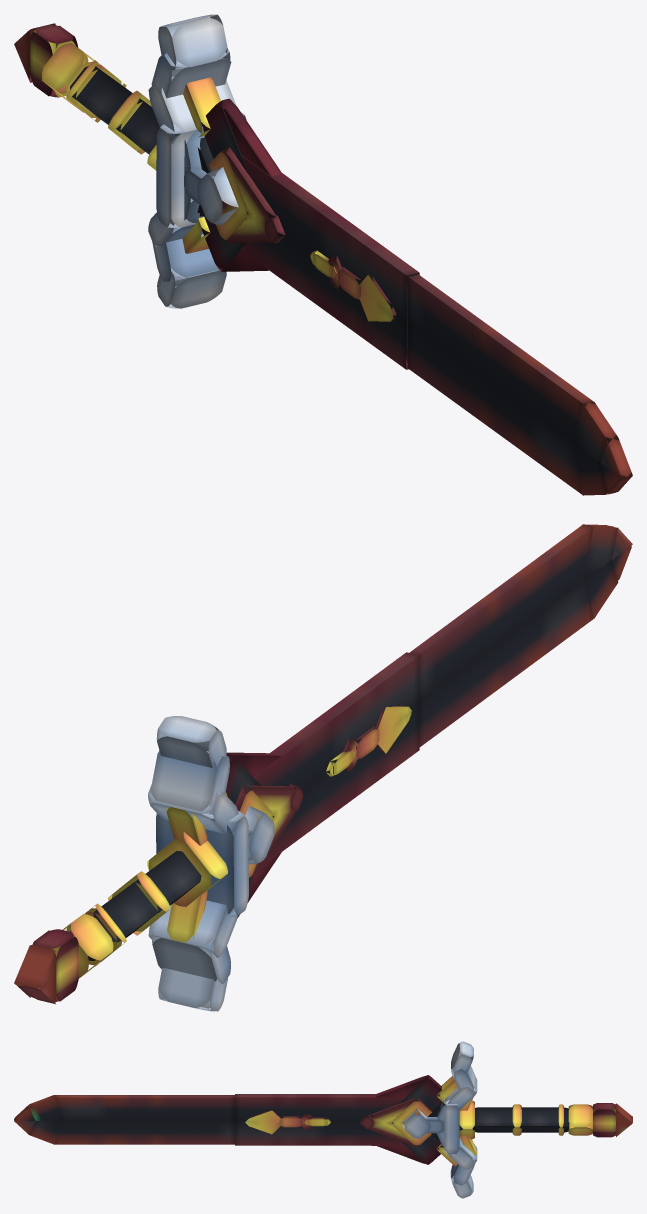
File: S7_sword.fbx
The picture shows the model from 3 angles, top to bottom: view 1: azimuth 30°, elevation 25°; view 2: azimuth 150°, elevation 25°; view 3: azimuth 270°, elevation 25°; orthographic projection. The views are drawn at different scales.
Parts seen in each view (by area): view 1: s7sword; view 2: s7sword; view 3: s7sword.
Part boxes in pixels (x1=…): s7sword: x1=14, y1=14, x2=632, y2=495; s7sword: x1=14, y1=524, x2=632, y2=1011; s7sword: x1=14, y1=1041, x2=632, y2=1198.
Size of the model in its own units: 0.094 by 1.26 by 0.3297.
